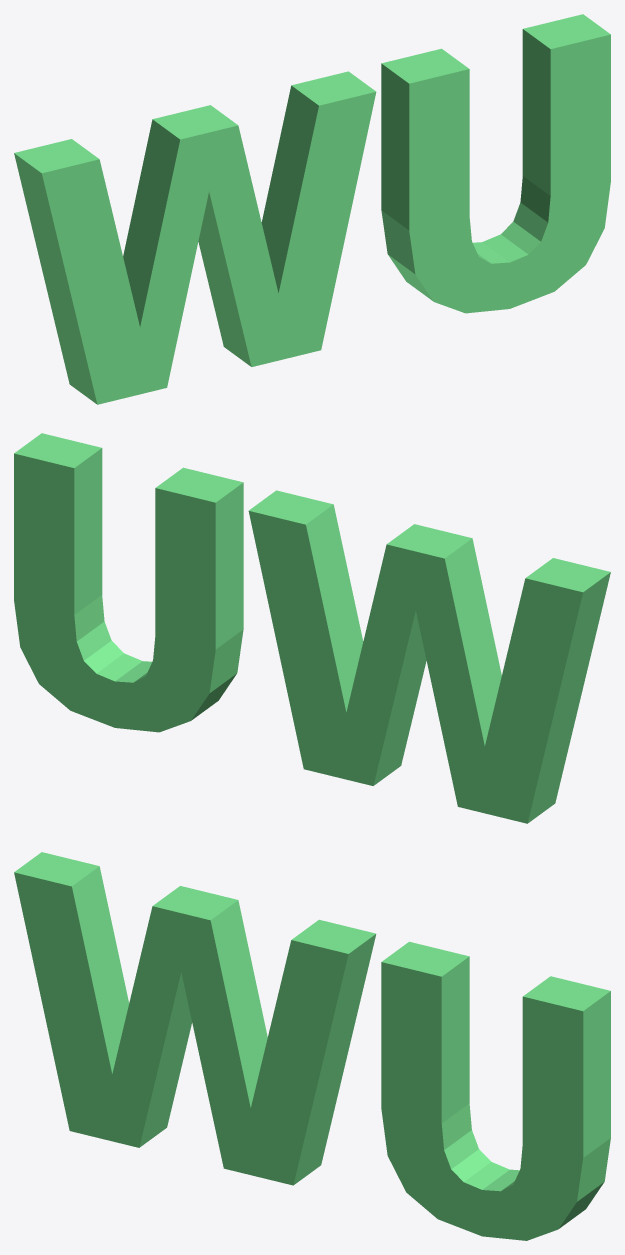
File: suku_besar_wu.glb
The picture shows the model from 3 angles, top to bottom: view 1: azimuth 30°, elevation 25°; view 2: azimuth 150°, elevation 25°; view 3: azimuth 330°, elevation 25°; orthographic projection.
Visible parts, largest first — view 1: geometry_0; view 2: geometry_0; view 3: geometry_0.
Part boxes in pixels (left/top/right/bottom): geometry_0: left=14, top=14, right=610, bottom=404; geometry_0: left=14, top=433, right=610, bottom=823; geometry_0: left=14, top=852, right=610, bottom=1240.
Size of the model in its own units: 17.72 by 7.43 by 1.5.
